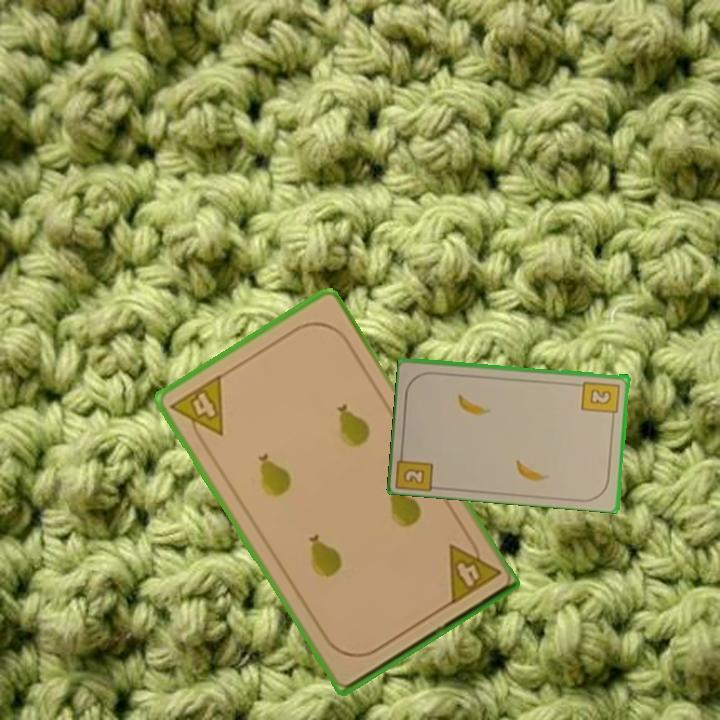2b: (579, 377, 623, 422), (395, 445, 437, 492)
4p: (166, 371, 227, 449), (444, 531, 504, 608)
